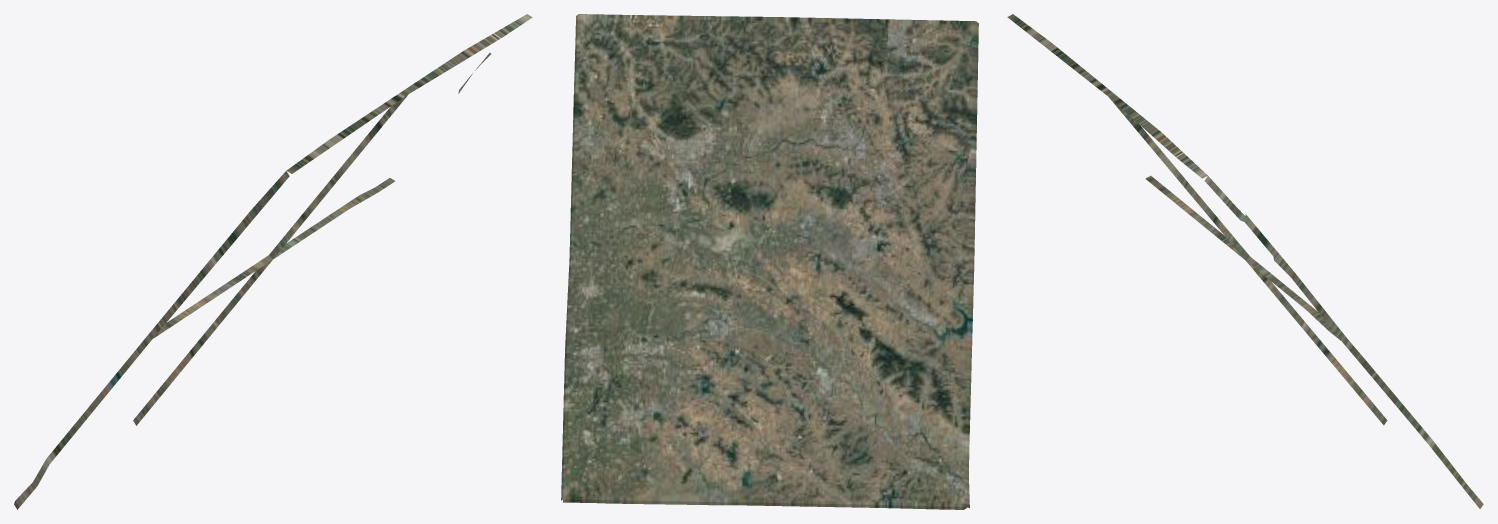
The picture shows the model from 3 angles, left to right: view 1: azimuth 30°, elevation 25°; view 2: azimuth 150°, elevation 25°; view 3: azimuth 270°, elevation 25°; orthographic projection. The views are drawn at different scales.
Size of the model in its own units: 157279 by 129498 by 141484.
1 material, 1 textured.
